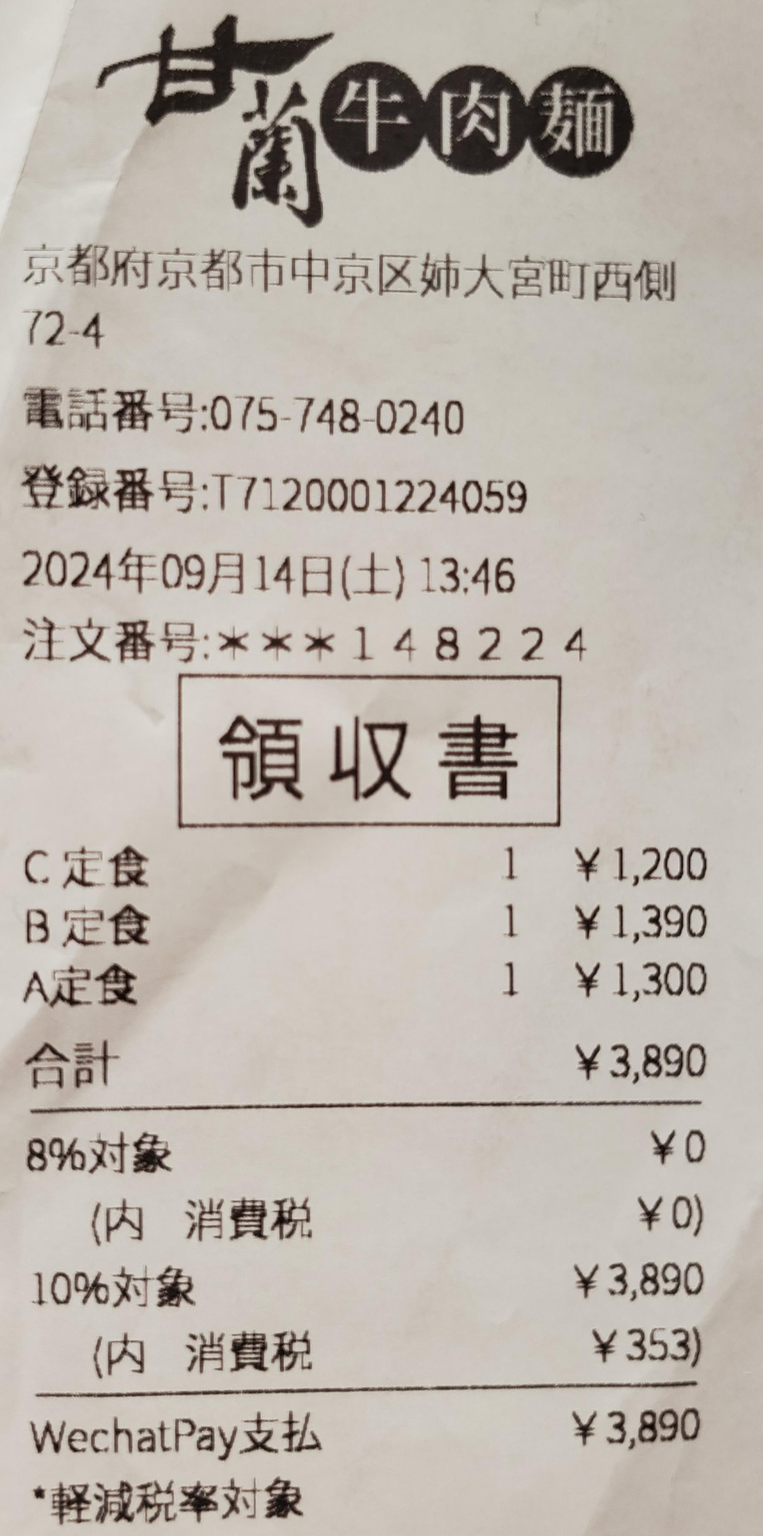TEL: (207, 387, 472, 442)
date: (19, 537, 333, 608)
total: (610, 1040, 718, 1085)
